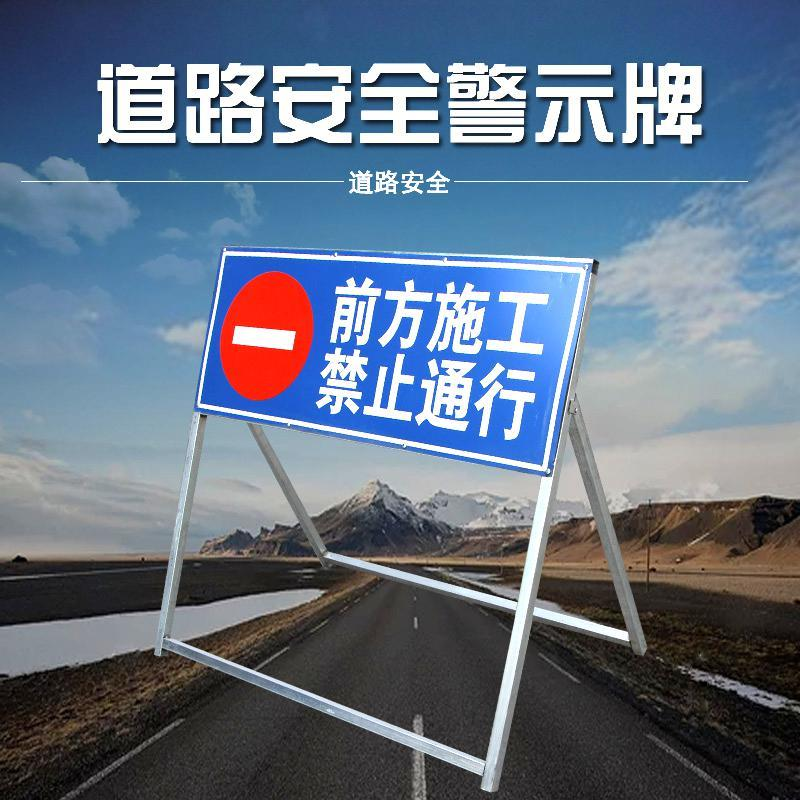sign: (205, 254, 575, 459)
